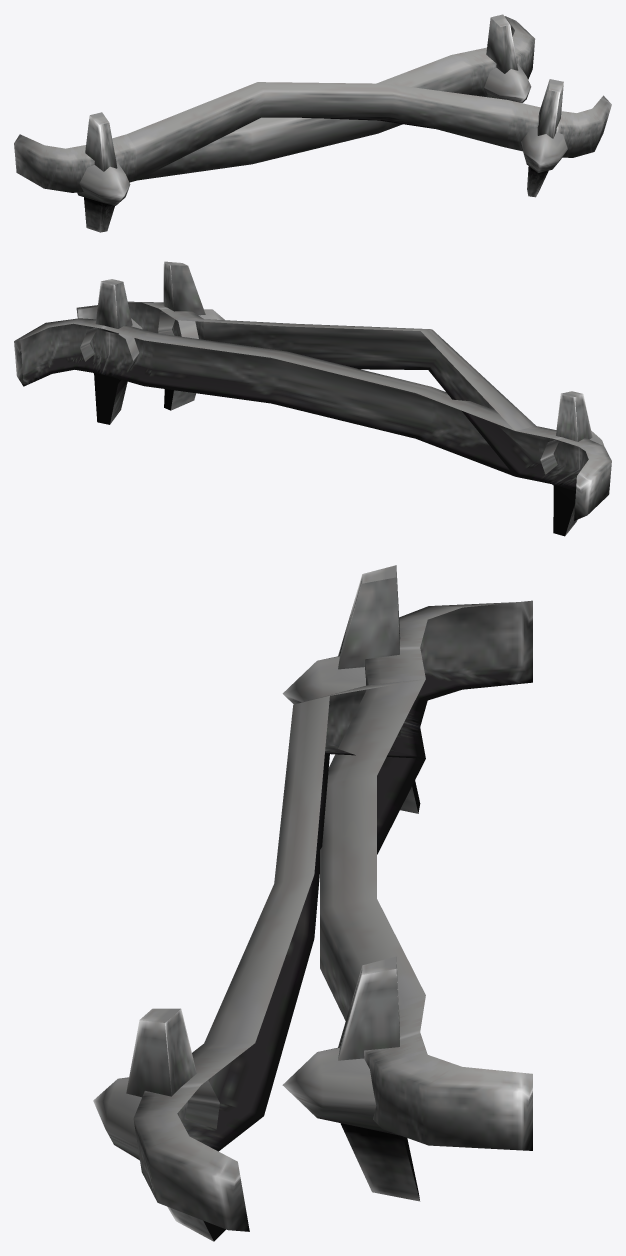
Rendered from rbmp_lr_br1.glb.
The picture shows the model from 3 angles, top to bottom: view 1: azimuth 30°, elevation 25°; view 2: azimuth 150°, elevation 25°; view 3: azimuth 270°, elevation 25°; orthographic projection. The views are drawn at different scales.
Visible parts, largest first — view 1: rbmp_lr_br1_dam, rbmp_lr_br1; view 2: rbmp_lr_br1, rbmp_lr_br1_dam; view 3: rbmp_lr_br1, rbmp_lr_br1_dam.
Part boxes in pixels (x1,y1,x2,y2): rbmp_lr_br1_dam: (127,79,611,197); rbmp_lr_br1: (14,14,535,232); rbmp_lr_br1: (14,279,611,536); rbmp_lr_br1_dam: (76,261,536,476); rbmp_lr_br1: (282,565,532,1201); rbmp_lr_br1_dam: (93,679,424,1241).
Size of the model in its own units: 2.3 by 0.6292 by 0.8376.
Materials: 2 (2 with a texture image).
